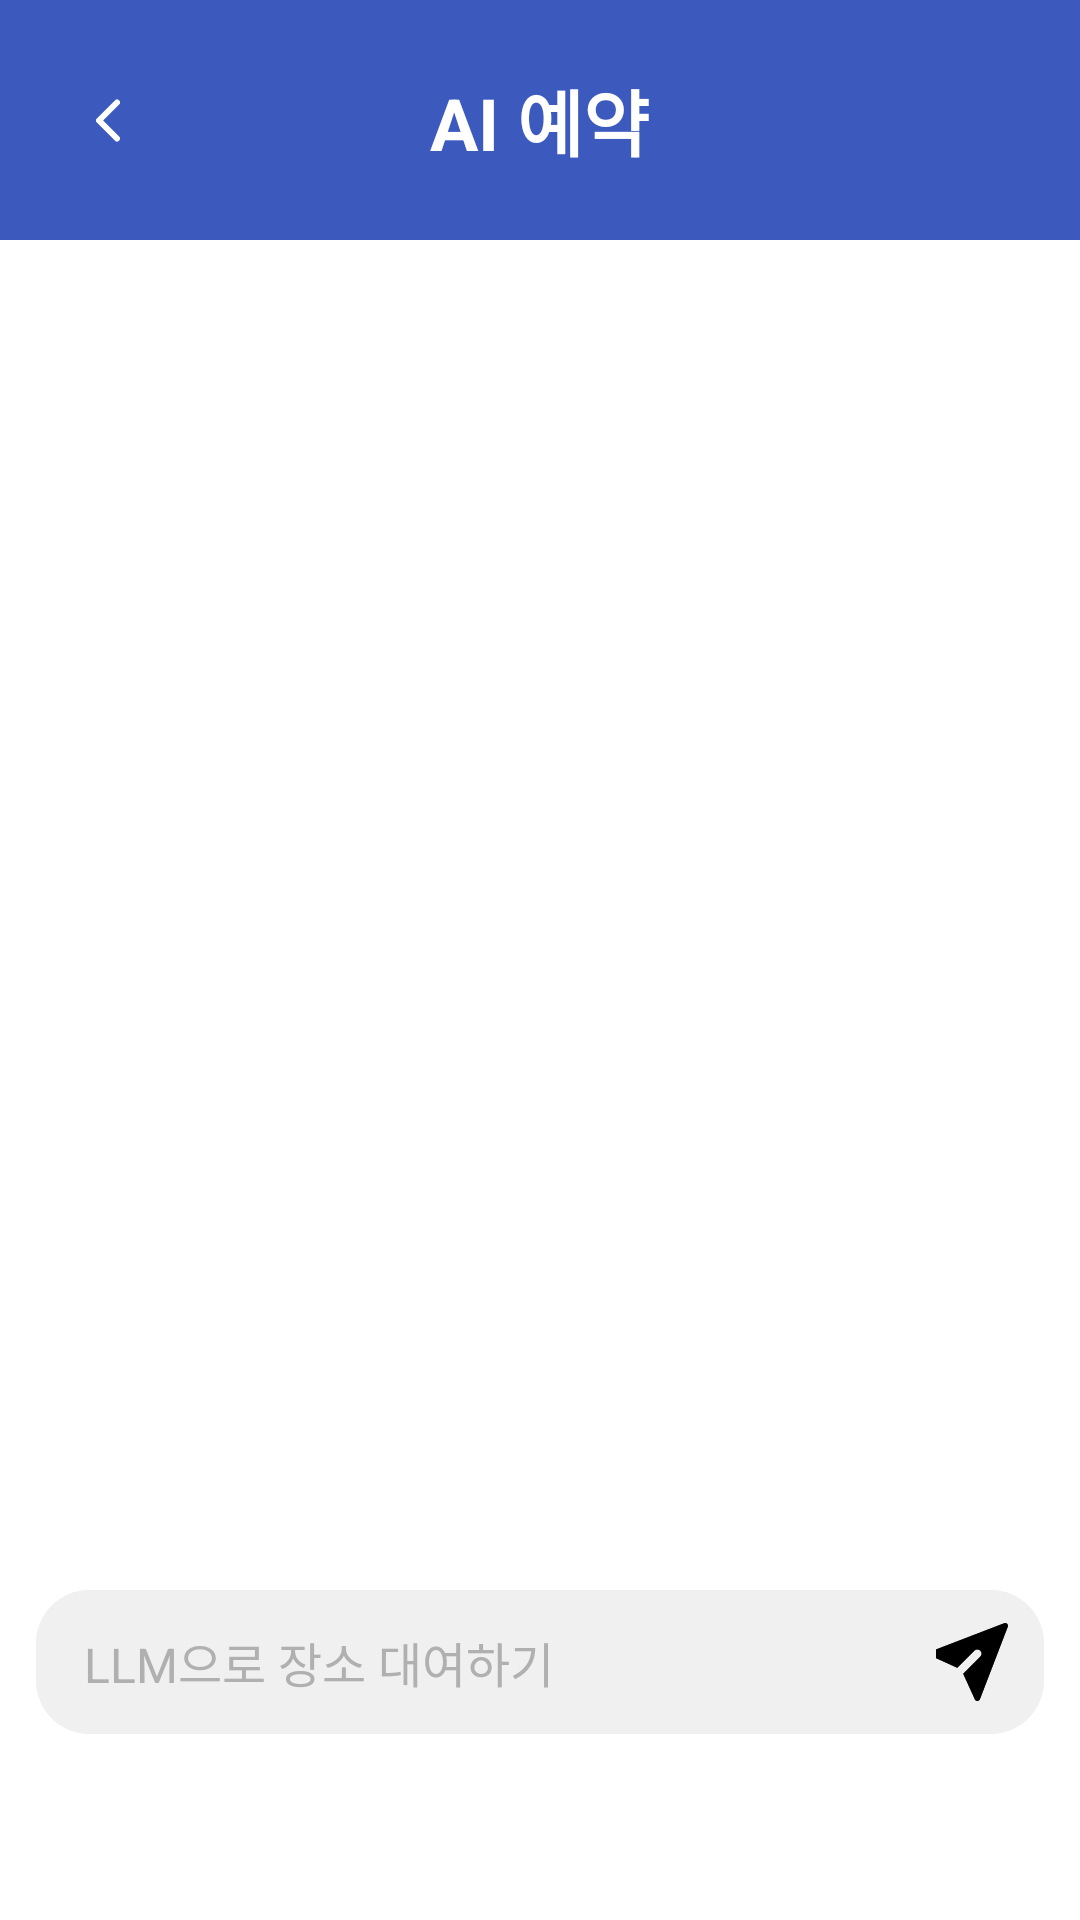

Point at icon controls on the screen. Image size 1080 x 1920, points as (x,y).
뒤로가기: (108,120)
보내기: (972,1662)
